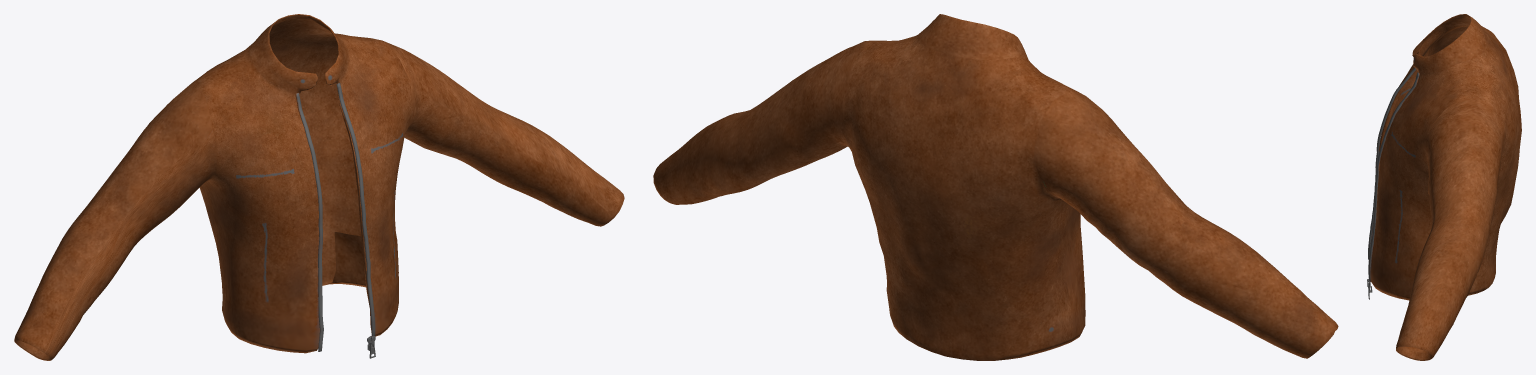
The model's file is maroonjacket.glb.
3 renders of one model, left to right at view 1: azimuth 30°, elevation 25°; view 2: azimuth 150°, elevation 25°; view 3: azimuth 270°, elevation 25°, orthographic. The views are drawn at different scales.
Parts seen in each view (by area): view 1: Jacket_Low, Teeth_Low; view 2: Jacket_Low; view 3: Jacket_Low, Teeth_Low.
Boxes of the visible parts, bbox=[...] form: Jacket_Low: bbox=[14, 14, 624, 360]; Teeth_Low: bbox=[295, 82, 375, 351]; Jacket_Low: bbox=[653, 14, 1338, 360]; Jacket_Low: bbox=[1370, 14, 1521, 360]; Teeth_Low: bbox=[1368, 67, 1419, 281].
Bounding box in the file's own units: 2743 × 1329 × 697.
1 material, 1 textured.
